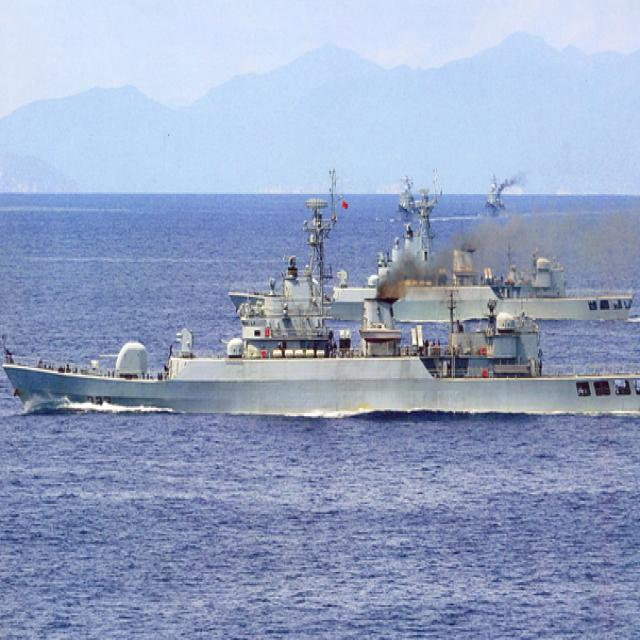navalvessels: (4, 210, 640, 420), (324, 199, 636, 328), (397, 167, 442, 221), (481, 170, 510, 216)
